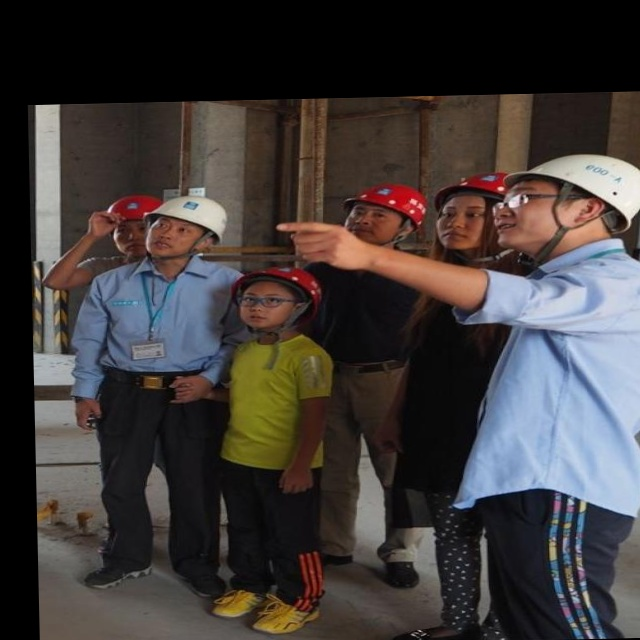Con_Casco: (241, 265, 327, 334), (139, 198, 230, 258)
